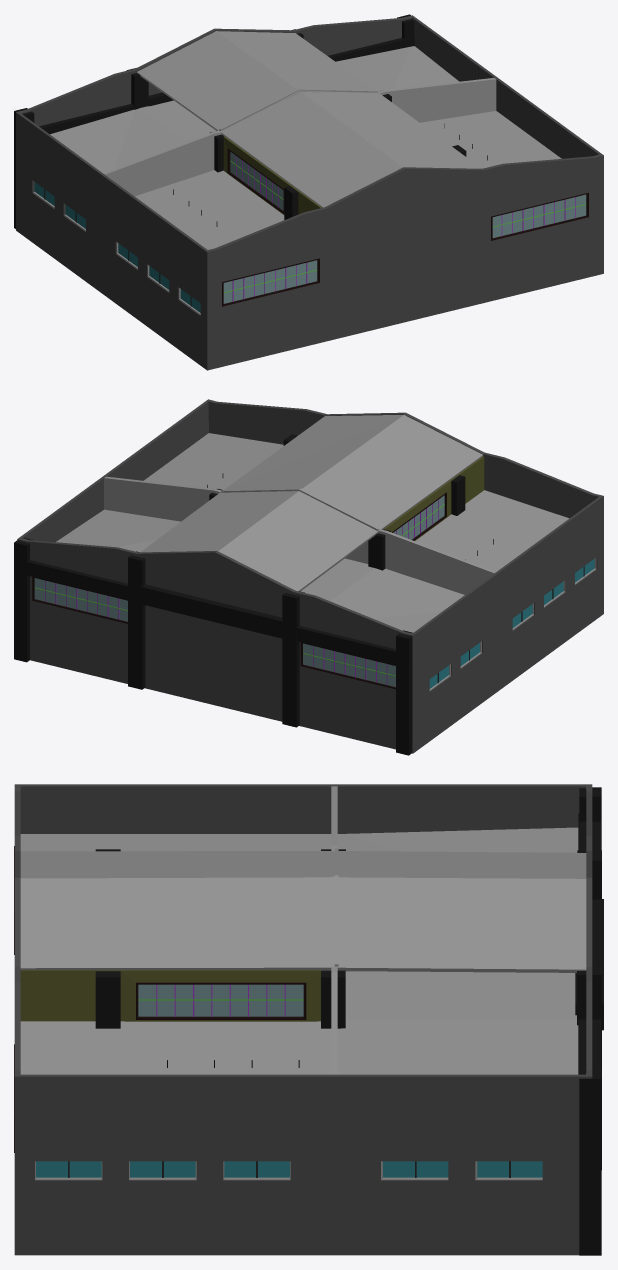
File: Low Poly Garage.fbx
3 renders of one model, top to bottom at view 1: azimuth 30°, elevation 25°; view 2: azimuth 150°, elevation 25°; view 3: azimuth 270°, elevation 25°, orthographic. The views are drawn at different scales.
Visible parts, largest first — view 1: ModuloGaraje_ParedLadrillos_0, M_Roof001_Techo_0, M_Roof002_Techo_0, object 96, Division002_DivisionesPeq_0, Cristal012_CristalVentana_0, Cristal010_CristalVentana_0, Cristal009_CristalVentana_0, Cristal011_CristalVentana_0, Columna007_Columnas_0, Columna008_Columnas_0, Columna003_Columnas_0 (+4 smaller); view 2: ModuloGaraje_ParedLadrillos_0, M_Roof001_Techo_0, M_Roof002_Techo_0, object 96, Columna011_Columnas_0, Columna003_Columnas_0, Columna006_Columnas_0, Columna010_Columnas_0, Columna009_Columnas_0, Columna008_Columnas_0, Columna007_Columnas_0, Division002_DivisionesPeq_0 (+6 smaller); view 3: ModuloGaraje_ParedLadrillos_0, M_Roof001_Techo_0, M_Roof002_Techo_0, Division003_DivisionesPeq_0, Columna009_Columnas_0, Cristal008_CristalVentana_0, Cristal007_CristalVentana_0, Columna004_Columnas_0, MarcoCristal004_MarcoVentana_0, object 96, Columna006_Columnas_0, Columna005_Columnas_0 (+8 smaller).
Boxes of the visible parts, box(x1,y1,x2,y2) form: ModuloGaraje_ParedLadrillos_0: box(16, 15, 603, 370); M_Roof001_Techo_0: box(137, 31, 481, 207); M_Roof002_Techo_0: box(50, 46, 561, 249); object 96: box(103, 78, 496, 196); Division002_DivisionesPeq_0: box(223, 136, 321, 214); Cristal012_CristalVentana_0: box(492, 205, 586, 237); Cristal010_CristalVentana_0: box(223, 270, 317, 303); Cristal009_CristalVentana_0: box(223, 260, 317, 292); Cristal011_CristalVentana_0: box(492, 194, 586, 226); Columna007_Columnas_0: box(39, 103, 133, 134); Columna008_Columnas_0: box(328, 37, 414, 61); Columna003_Columnas_0: box(126, 68, 148, 109); ModuloGaraje_ParedLadrillos_0: box(17, 399, 603, 753); M_Roof001_Techo_0: box(140, 414, 482, 591); M_Roof002_Techo_0: box(56, 433, 569, 632); object 96: box(104, 476, 495, 594); Columna011_Columnas_0: box(140, 584, 282, 638); Columna003_Columnas_0: box(282, 591, 304, 727); Columna006_Columnas_0: box(128, 551, 145, 689); Columna010_Columnas_0: box(396, 630, 412, 755); Columna009_Columnas_0: box(14, 538, 33, 662); Columna008_Columnas_0: box(27, 560, 127, 599); Columna007_Columnas_0: box(297, 626, 395, 665); Division002_DivisionesPeq_0: box(384, 456, 484, 540); ModuloGaraje_ParedLadrillos_0: box(14, 784, 592, 1255); M_Roof001_Techo_0: box(20, 851, 586, 972); M_Roof002_Techo_0: box(20, 827, 578, 1074); Division003_DivisionesPeq_0: box(20, 970, 321, 1021); Columna009_Columnas_0: box(579, 1069, 601, 1255); Cristal008_CristalVentana_0: box(138, 1000, 303, 1016); Cristal007_CristalVentana_0: box(138, 984, 303, 999); Columna004_Columnas_0: box(95, 971, 120, 1028); MarcoCristal004_MarcoVentana_0: box(136, 982, 306, 1019); object 96: box(331, 786, 337, 1074); Columna006_Columnas_0: box(577, 964, 601, 1169); Columna005_Columnas_0: box(321, 970, 345, 1028).
Bounding box in the file's own units: 2227 × 833 × 1898.
